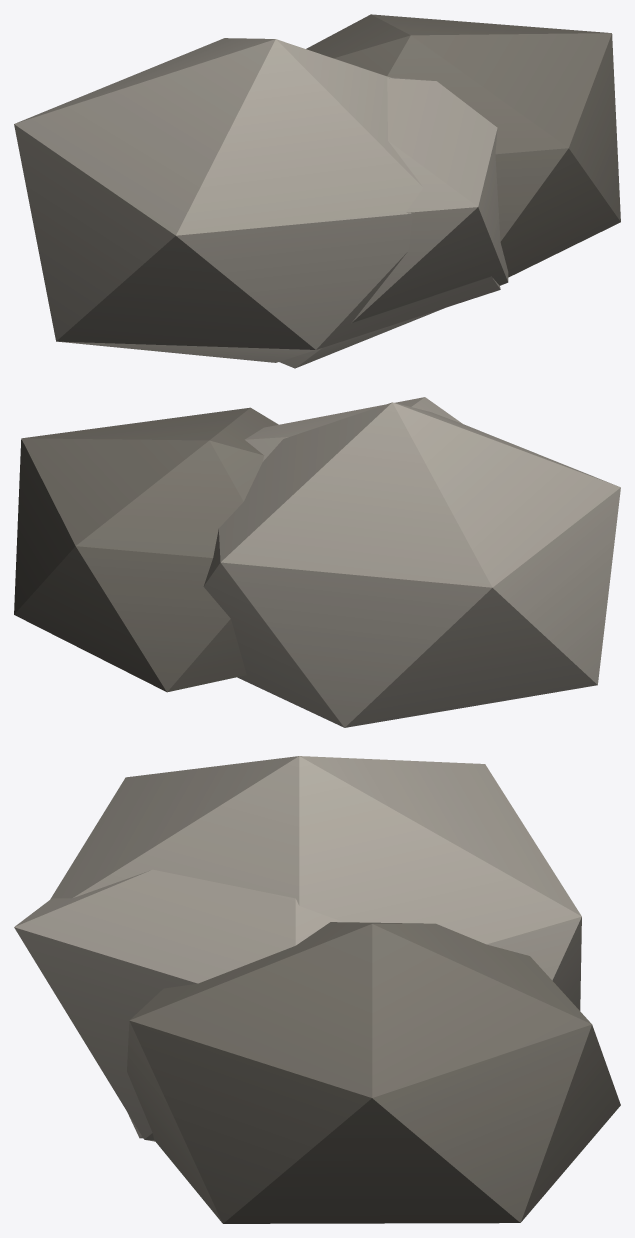
File: rock_3.glb
The picture shows the model from 3 angles, top to bottom: view 1: azimuth 30°, elevation 25°; view 2: azimuth 150°, elevation 25°; view 3: azimuth 270°, elevation 25°; orthographic projection. The views are drawn at different scales.
Visible parts, largest first — view 1: rock_3; view 2: rock_3; view 3: rock_3.
Boxes of the visible parts, left/top/right/bottom form: rock_3: left=14, top=14, right=620, bottom=368; rock_3: left=14, top=397, right=620, bottom=727; rock_3: left=14, top=756, right=620, bottom=1223.
Size of the model in its own units: 1.02 by 0.5539 by 0.7618.
1 material, 1 textured.
